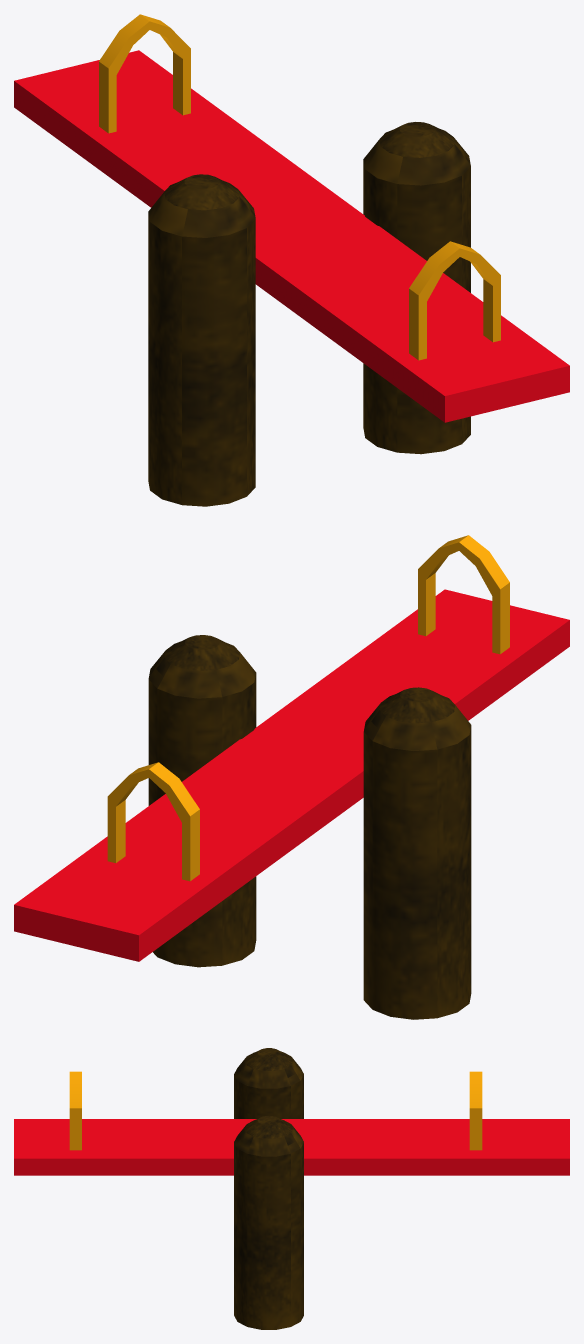
Rendered from GangorraVermelhaLOD0.fbx.
3 renders of one model, top to bottom at view 1: azimuth 30°, elevation 25°; view 2: azimuth 150°, elevation 25°; view 3: azimuth 270°, elevation 25°, orthographic. The views are drawn at different scales.
Visible parts, largest first — view 1: GangorraVermelhaLOD0; view 2: GangorraVermelhaLOD0; view 3: GangorraVermelhaLOD0.
Part boxes in pixels (box(x1,y1,x2,y2)): GangorraVermelhaLOD0: box(14, 14, 569, 506); GangorraVermelhaLOD0: box(14, 535, 569, 1019); GangorraVermelhaLOD0: box(14, 1048, 569, 1329).
Bounding box in the file's own units: 64.01 × 64.42 × 156.
